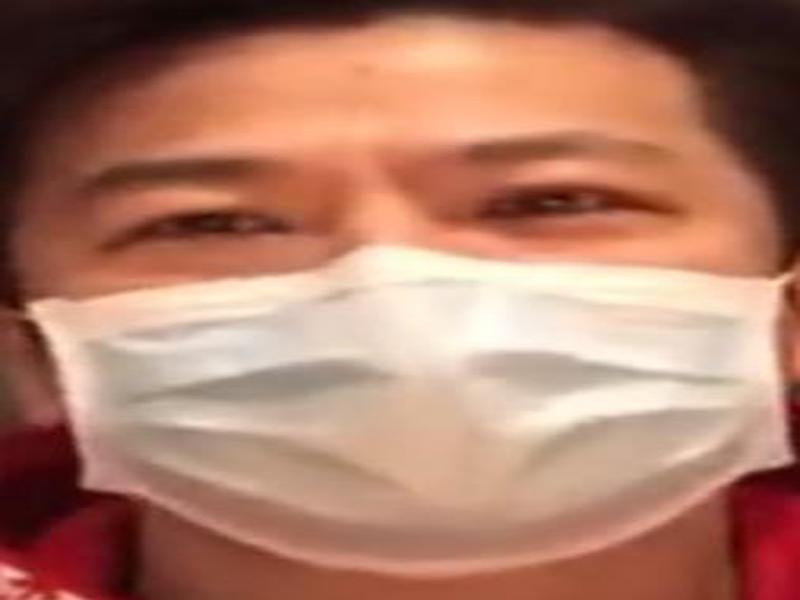with_mask: (1, 11, 799, 579)
